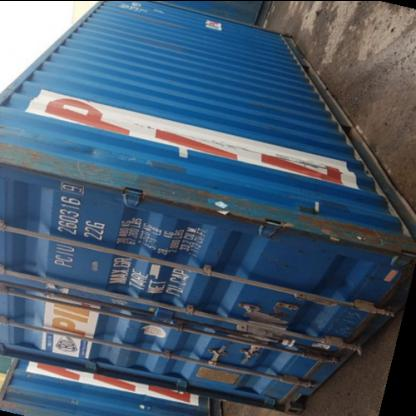Damage: (272, 204, 407, 251), (166, 184, 268, 219), (73, 160, 166, 198), (3, 143, 78, 182), (322, 300, 363, 341), (356, 265, 393, 292)
